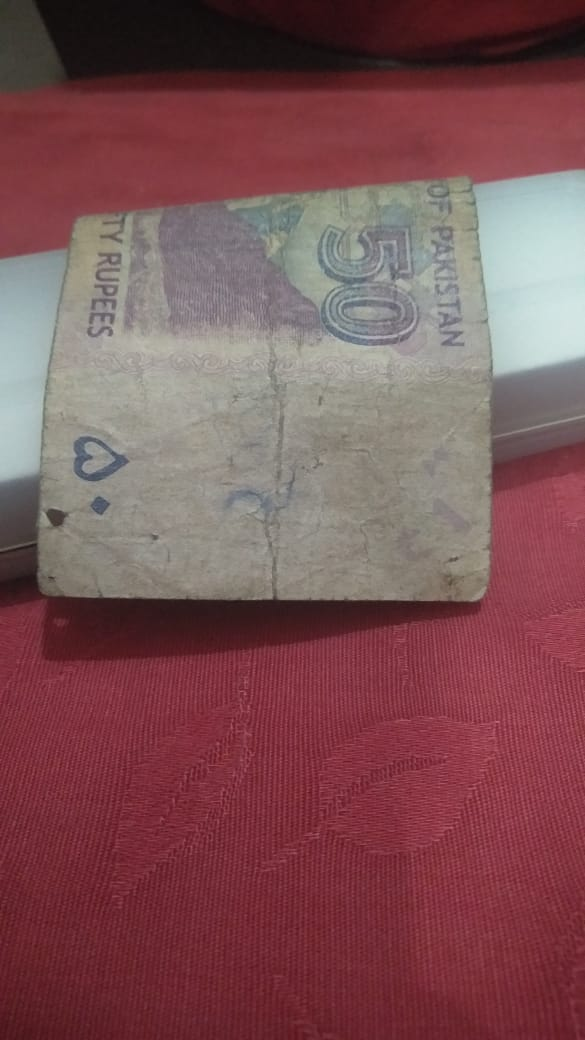50 rupee: (36, 168, 501, 642)
